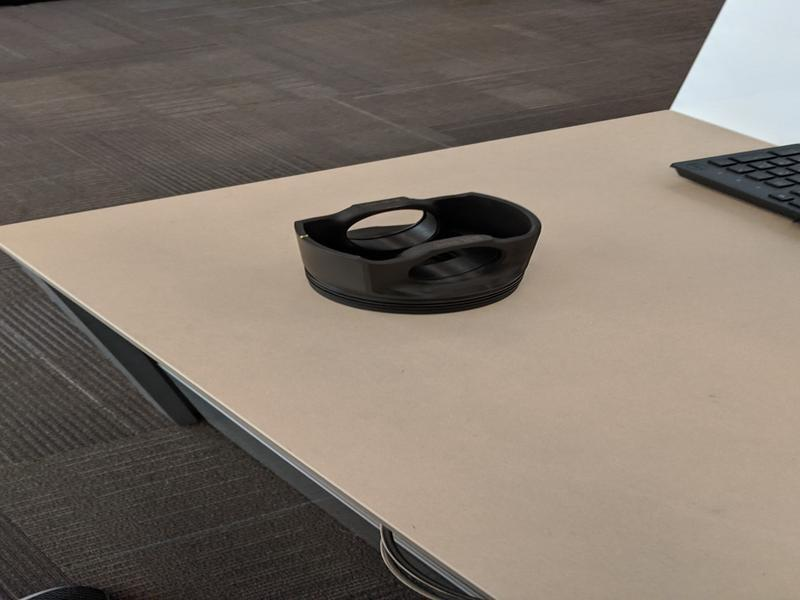piston: (295, 191, 544, 318)
